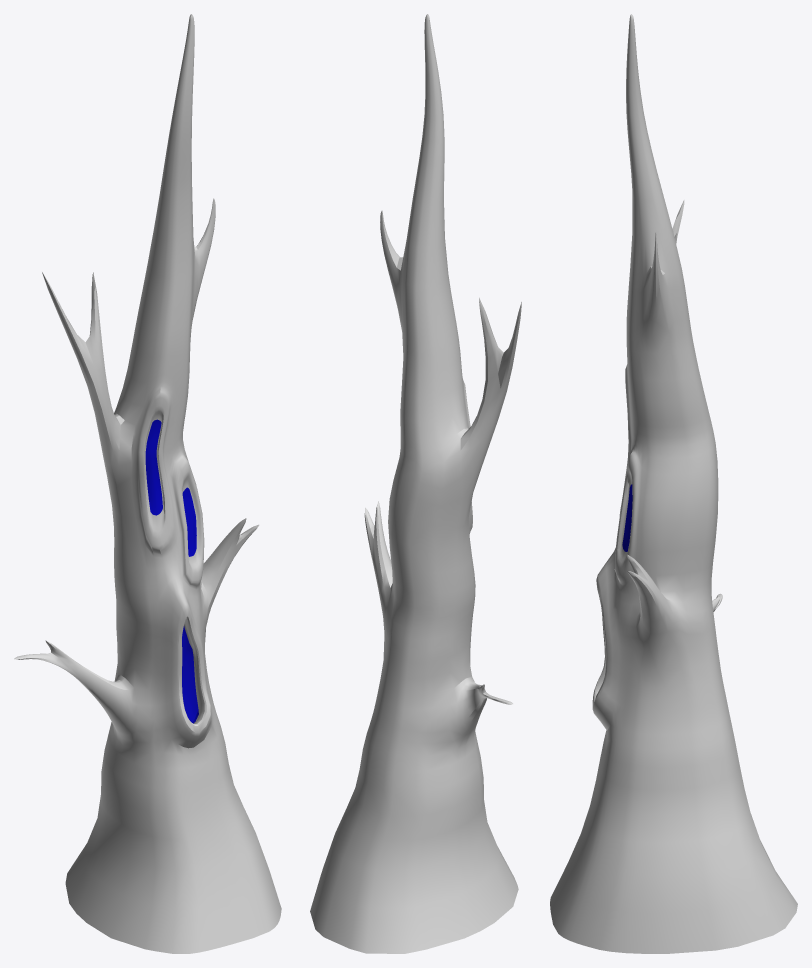
Rendered from albero.fbx.
3 renders of one model, left to right at view 1: azimuth 30°, elevation 25°; view 2: azimuth 150°, elevation 25°; view 3: azimuth 270°, elevation 25°, orthographic. The views are drawn at different scales.
Visible parts, largest first — view 1: albero; view 2: albero; view 3: albero.
Part boxes in pixels (x1,y1,x2,y2): albero: [14, 14, 281, 953]; albero: [310, 14, 521, 953]; albero: [550, 14, 797, 953].
Size of the model in its own units: 100 by 400 by 99.92.
